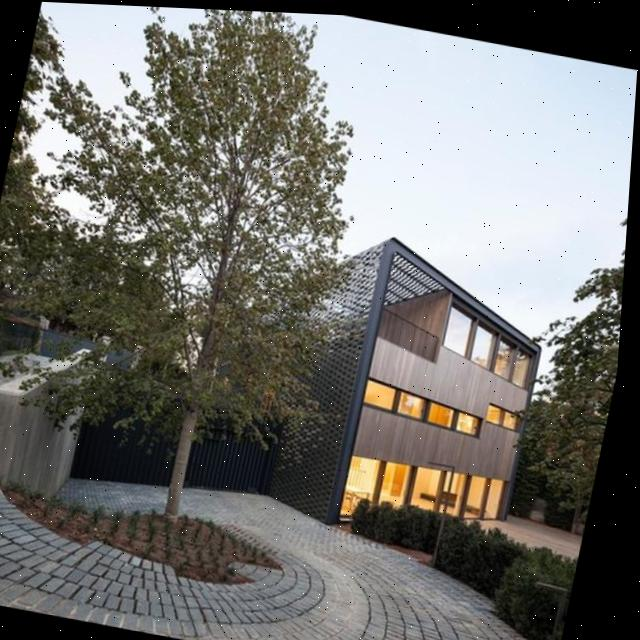building: (213, 208, 582, 550)
